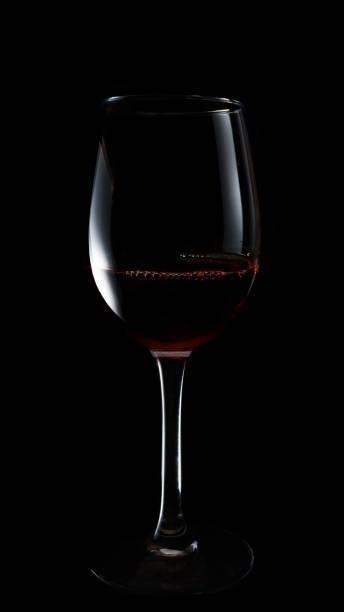glass-wine: (83, 88, 264, 597)
